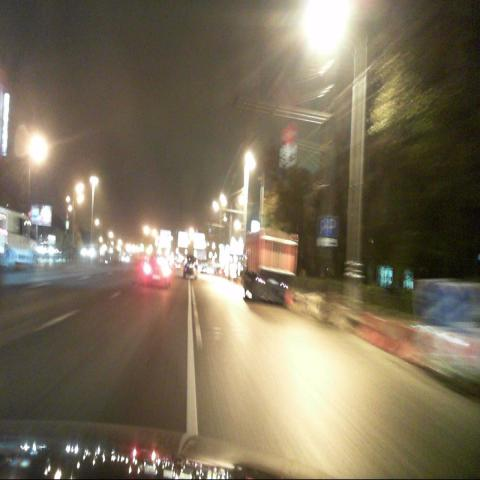6_4: (326, 216, 338, 238)
